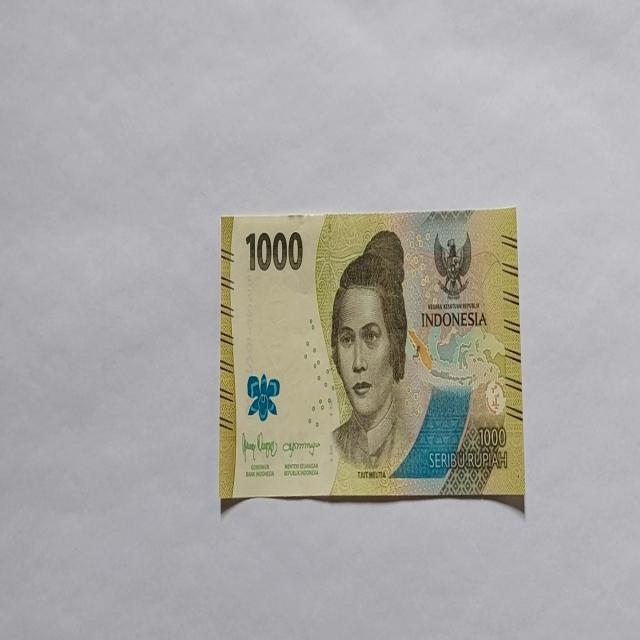seribu rupiah kertas: (219, 207, 524, 506)
